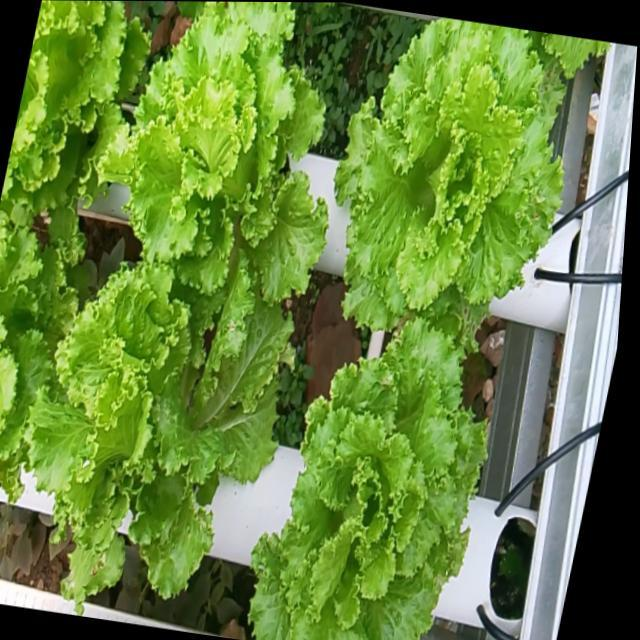Mature: (2, 255, 285, 611), (239, 298, 487, 640), (327, 17, 587, 341), (74, 1, 320, 305)
